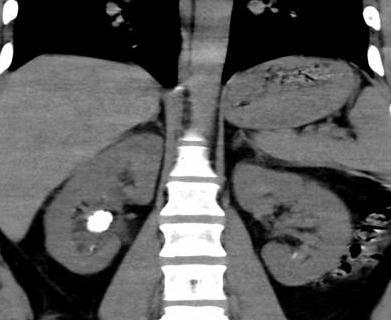Tas_Var: (81, 200, 119, 240), (86, 245, 98, 252), (290, 252, 299, 260)
